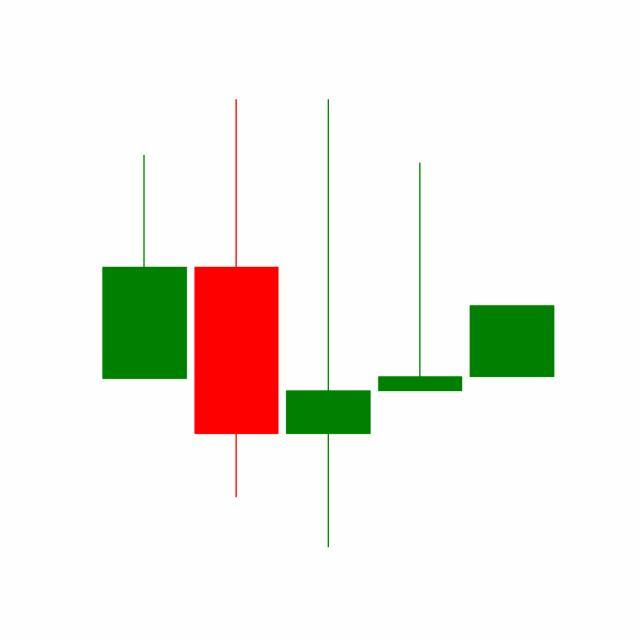Gravestone Doji: (374, 161, 468, 395)
